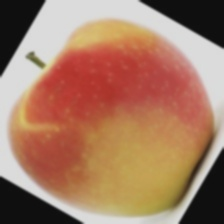apple: (21, 38, 161, 210)
